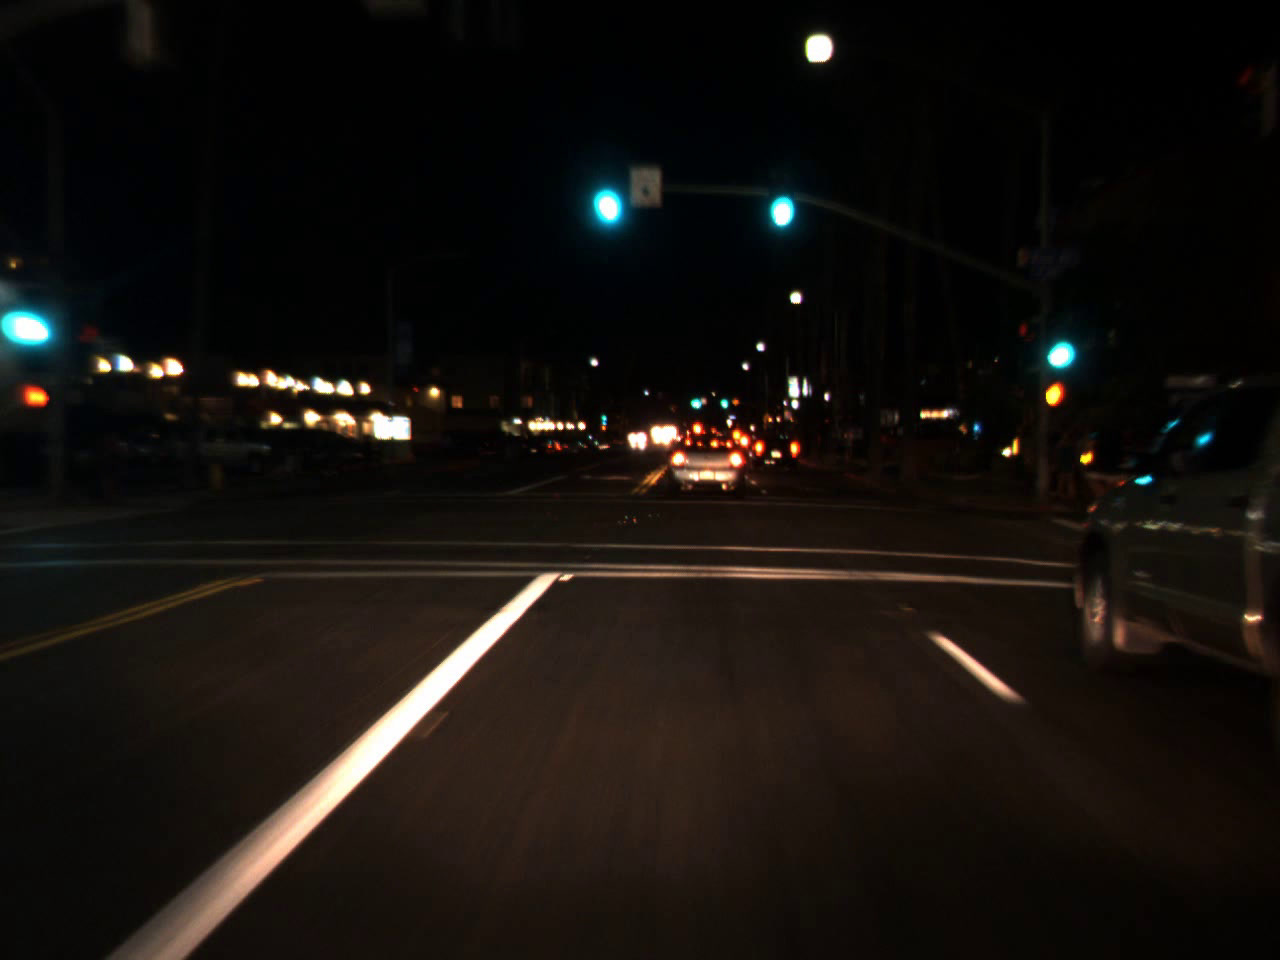go: (0, 277, 52, 355), (583, 148, 626, 235), (1035, 305, 1081, 380), (759, 159, 800, 237), (687, 391, 703, 409), (719, 391, 729, 409), (600, 408, 607, 423)
